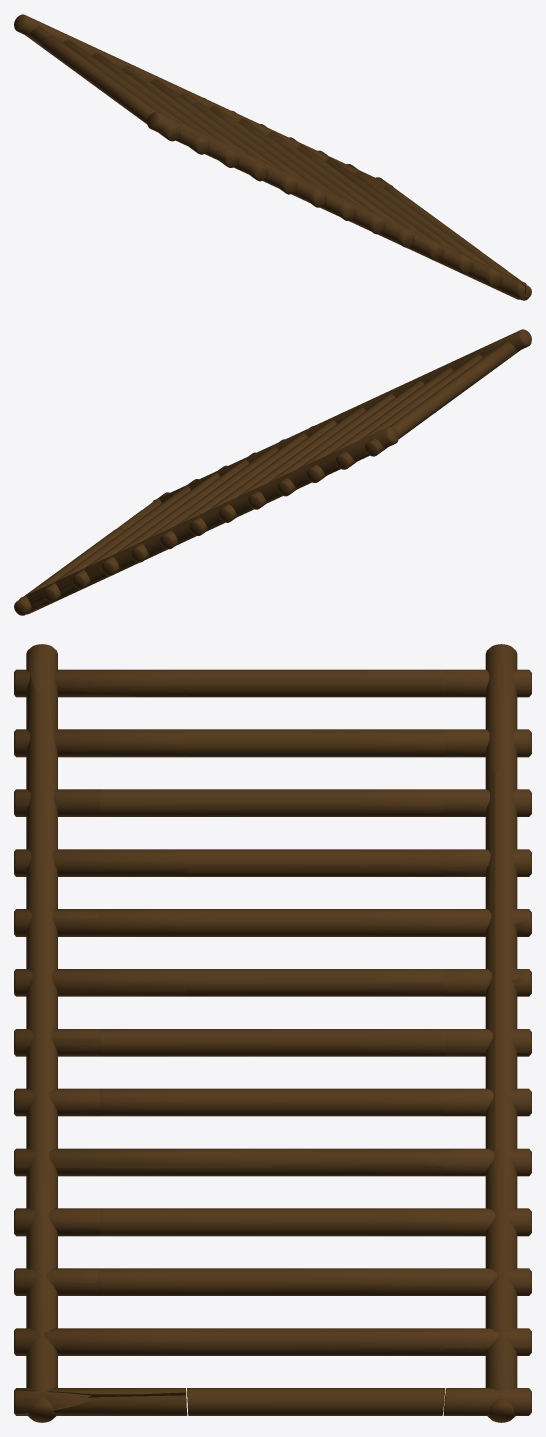
Rendered from fractured_tahta_stairs.fbx.
3 renders of one model, top to bottom at view 1: azimuth 30°, elevation 25°; view 2: azimuth 150°, elevation 25°; view 3: azimuth 270°, elevation 25°, orthographic. The views are drawn at different scales.
Parts seen in each view (by area): view 1: Cylinder.031, Cylinder.031_cell.001, Cylinder.029, Cylinder.028, Cylinder.024, Cylinder.031_cell.003, Cylinder.027, Cylinder.026, Cylinder.030_cell, Cylinder.030, Cylinder.029_cell.001, Cylinder.002 (+20 smaller); view 2: Cylinder.030, Cylinder.030_cell.004, Cylinder.029, Cylinder.031, Cylinder.028, Cylinder.024, Cylinder.027, Cylinder.030_cell.002, Cylinder.026, Cylinder.022, Cylinder.002, Cylinder.023 (+17 smaller); view 3: Cylinder.031, Cylinder.025, Cylinder.022, Cylinder.028, Cylinder.006, Cylinder.021, Cylinder.002, Cylinder.027, Cylinder.030, Cylinder.020, Cylinder.030_cell.004, Cylinder.001_cell (+48 smaller).
Boxes of the visible parts, bbox=[...] form: Cylinder.031: bbox=[147, 112, 526, 290]; Cylinder.031_cell.001: bbox=[274, 170, 524, 299]; Cylinder.029: bbox=[25, 29, 180, 139]; Cylinder.028: bbox=[63, 39, 209, 154]; Cylinder.024: bbox=[186, 92, 326, 207]; Cylinder.031_cell.003: bbox=[153, 123, 282, 185]; Cylinder.027: bbox=[92, 52, 239, 166]; Cylinder.026: bbox=[121, 68, 267, 179]; Cylinder.030_cell: bbox=[87, 46, 270, 134]; Cylinder.030: bbox=[17, 20, 393, 186]; Cylinder.029_cell.001: bbox=[42, 40, 118, 103]; Cylinder.002: bbox=[347, 164, 502, 287]; Cylinder.030: bbox=[19, 436, 394, 607]; Cylinder.030_cell.004: bbox=[142, 456, 330, 557]; Cylinder.029: bbox=[366, 341, 519, 456]; Cylinder.031: bbox=[153, 330, 531, 502]; Cylinder.028: bbox=[336, 354, 481, 468]; Cylinder.024: bbox=[218, 407, 365, 522]; Cylinder.027: bbox=[306, 367, 453, 482]; Cylinder.030_cell.002: bbox=[325, 426, 398, 470]; Cylinder.026: bbox=[280, 380, 424, 495]; Cylinder.022: bbox=[160, 443, 295, 549]; Cylinder.002: bbox=[43, 482, 190, 602]; Cylinder.023: bbox=[189, 420, 335, 535]; Cylinder.031: bbox=[26, 644, 57, 1422]; Cylinder.025: bbox=[14, 909, 531, 936]; Cylinder.022: bbox=[14, 1088, 531, 1116]; Cylinder.028: bbox=[14, 729, 531, 757]; Cylinder.006: bbox=[14, 1268, 531, 1295]; Cylinder.021: bbox=[14, 1148, 531, 1176]; Cylinder.002: bbox=[14, 1328, 531, 1355]; Cylinder.027: bbox=[14, 789, 531, 816]; Cylinder.030: bbox=[485, 648, 517, 1422]; Cylinder.020: bbox=[14, 1208, 531, 1236]; Cylinder.030_cell.004: bbox=[496, 772, 517, 1151]; Cylinder.001_cell: bbox=[187, 1388, 445, 1415].
Bounding box in the file's own units: 137 × 94.47 × 95.2.
